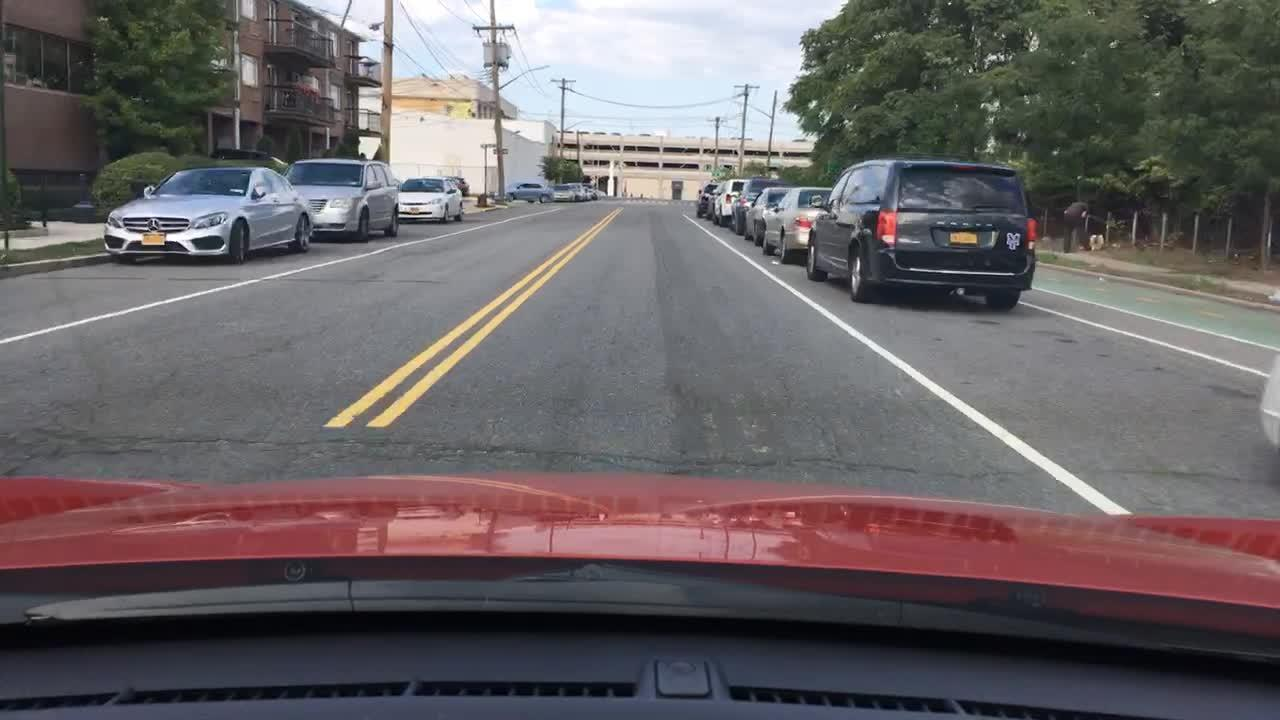Mercedes: (145, 215, 163, 234)
